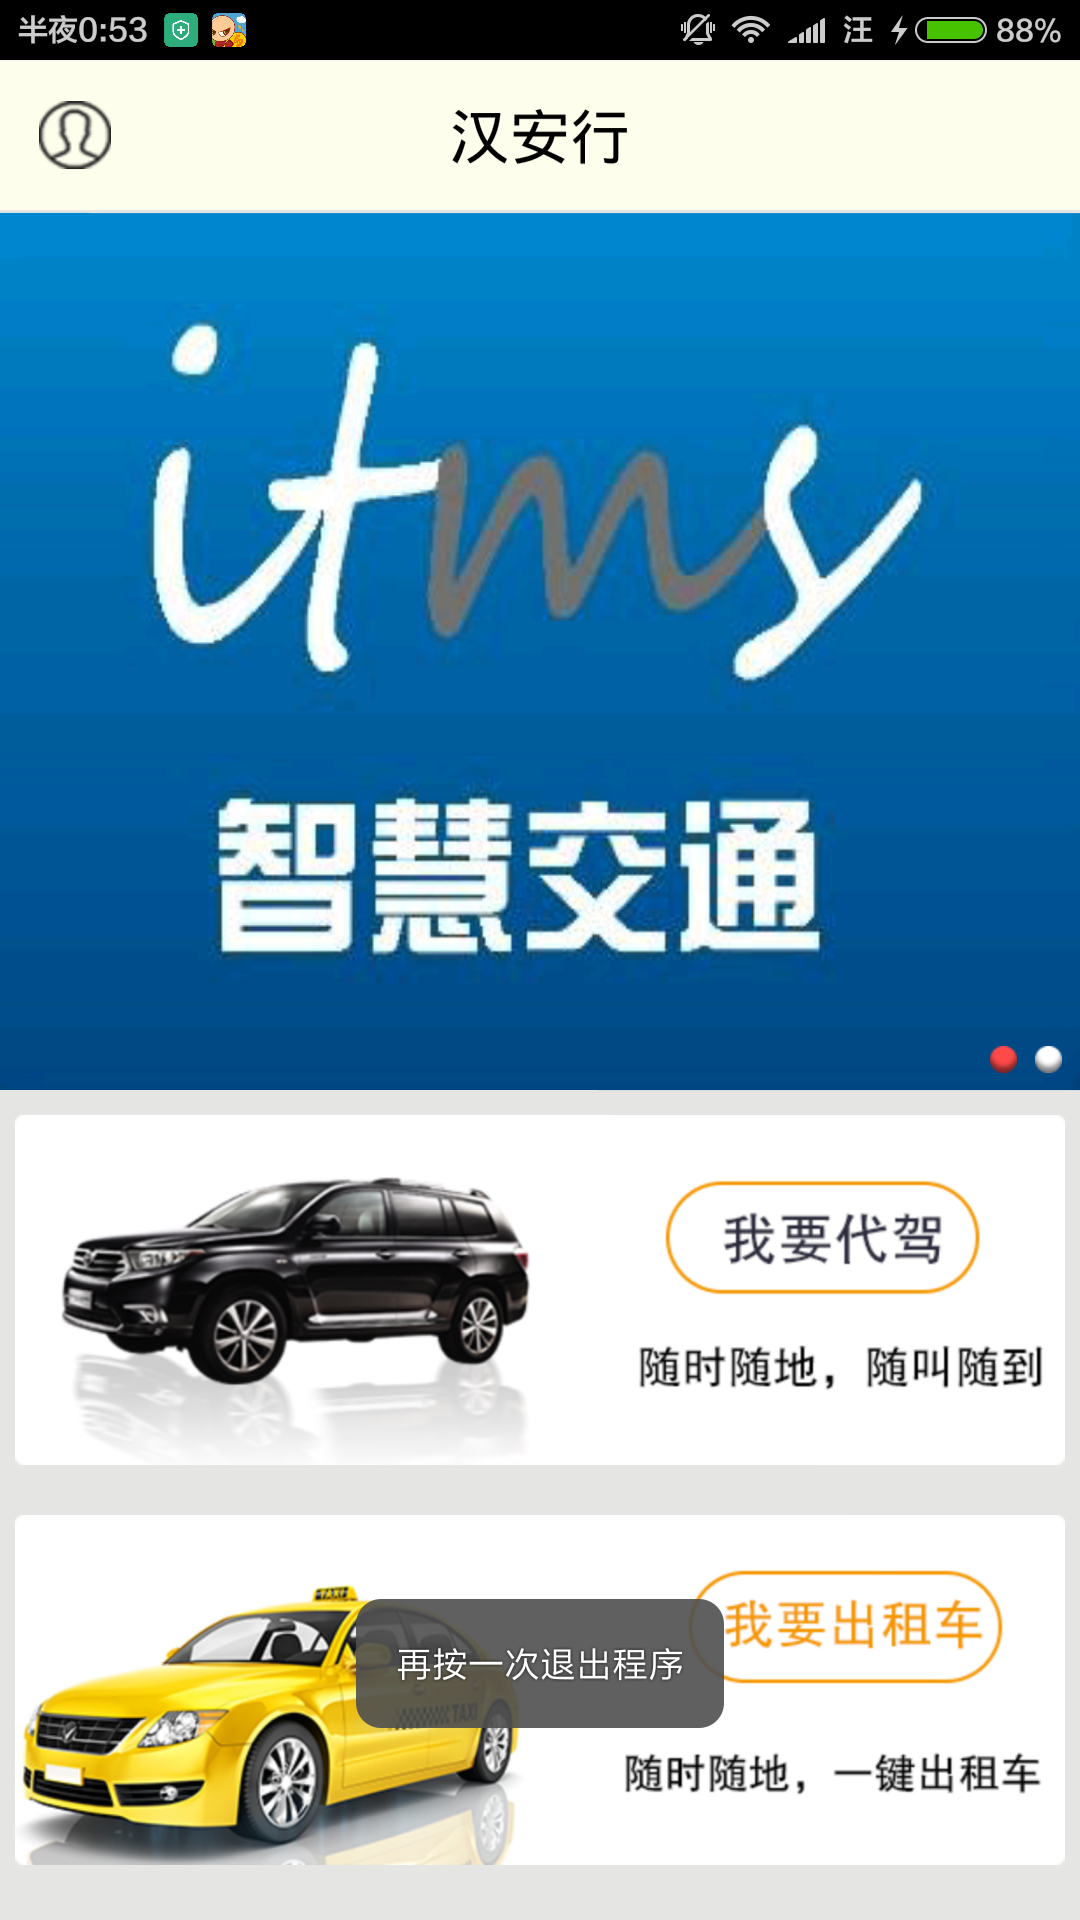alert: (349, 1592, 731, 1737)
imgview: (4, 200, 1080, 1102)
